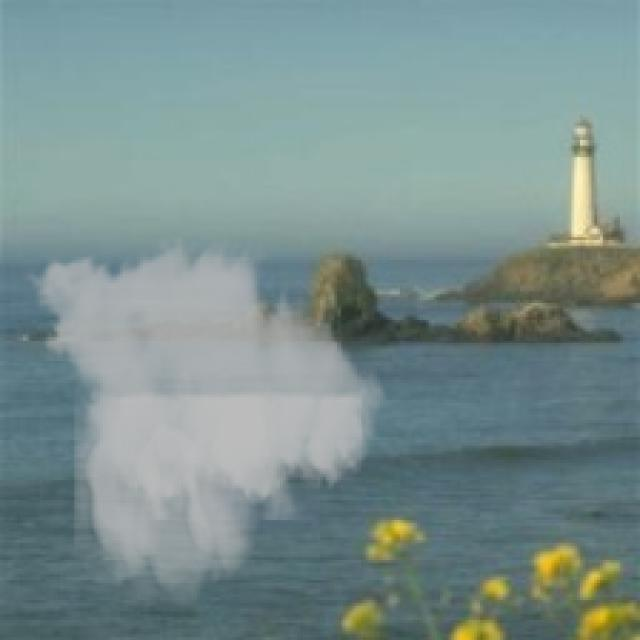Smoke: (17, 231, 397, 606)
